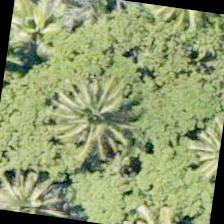Kelapa_Sawit: (45, 73, 147, 175), (5, 0, 82, 74), (0, 160, 75, 220)
